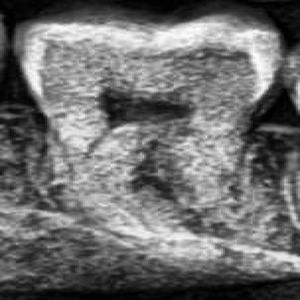tooth: (16, 7, 283, 230)
